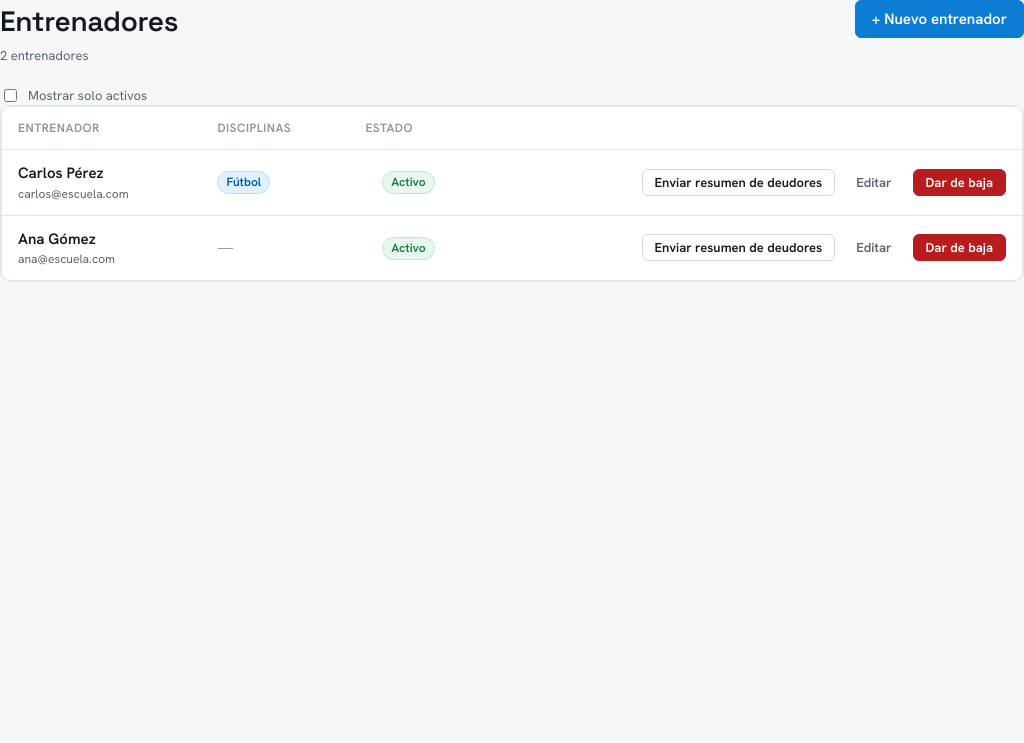
Scenario: Entrenadores — alta/edición + resumen de deudores (ADMIN) › edición: precarga las disciplinas asignadas (chips del catálogo)
The image size is (1024, 743).
Expected: the text "Carlos Pérez" is shown, left=18, top=163, right=104, bottom=183
Note: Carlos (primera fila) tiene la disciplina Fútbol (d1) asignada.
Click the button "Editar" in the row of "Carlos Pérez": (874, 182) left=843, top=169, right=904, bottom=196
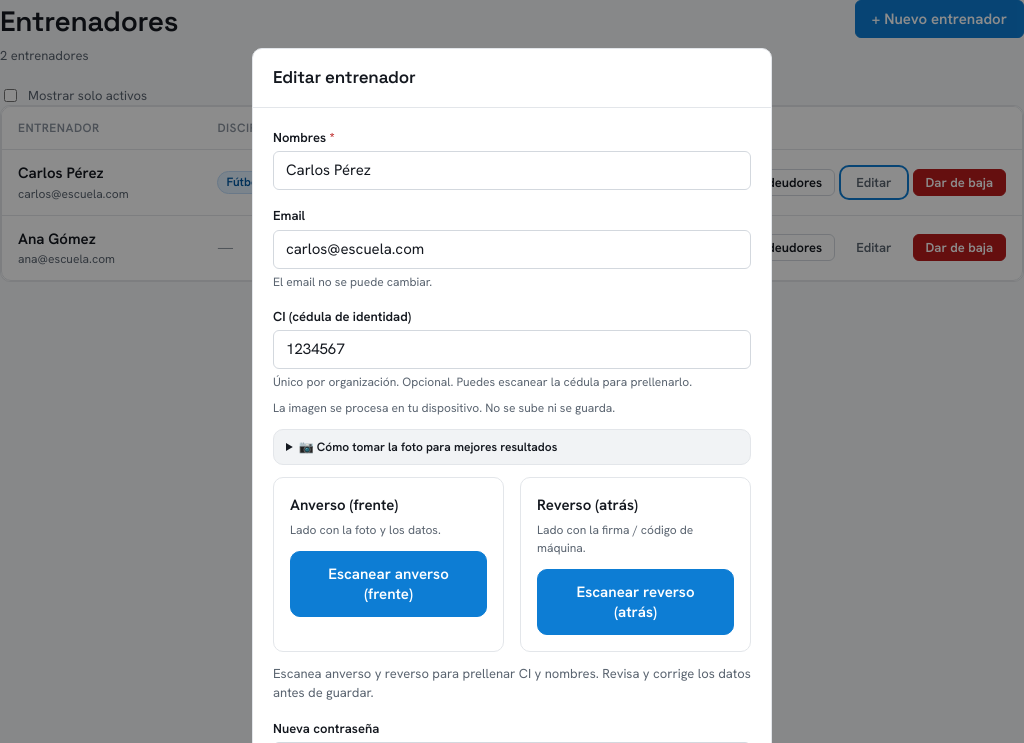
Now the field labelled "CI (cédula de identidad)" holds "1234567", box left=273, top=330, right=751, bottom=369
